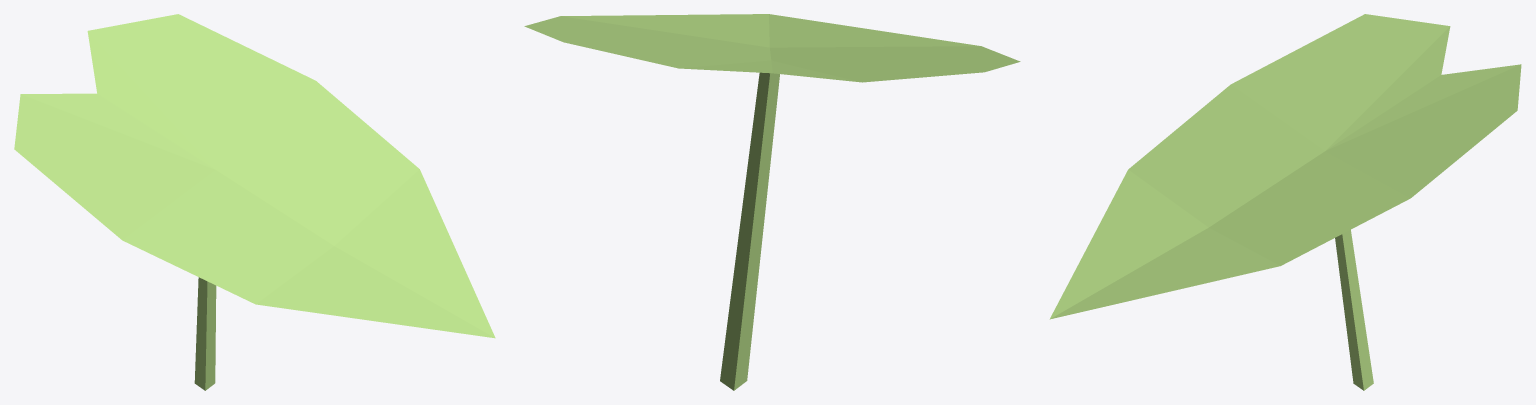
Rendered from Plant_d_OneS_01.fbx.
3 renders of one model, left to right at view 1: azimuth 30°, elevation 25°; view 2: azimuth 150°, elevation 25°; view 3: azimuth 270°, elevation 25°, orthographic. The views are drawn at different scales.
Parts seen in each view (by area): view 1: Plant_d_OneS_01; view 2: Plant_d_OneS_01; view 3: Plant_d_OneS_01.
Part boxes in pixels (box(x1,y1,x2,y2)): Plant_d_OneS_01: box(14, 14, 495, 390); Plant_d_OneS_01: box(524, 14, 1020, 390); Plant_d_OneS_01: box(1049, 14, 1521, 390).
Bounding box in the file's own units: 0.3206 × 0.2583 × 0.3643.
